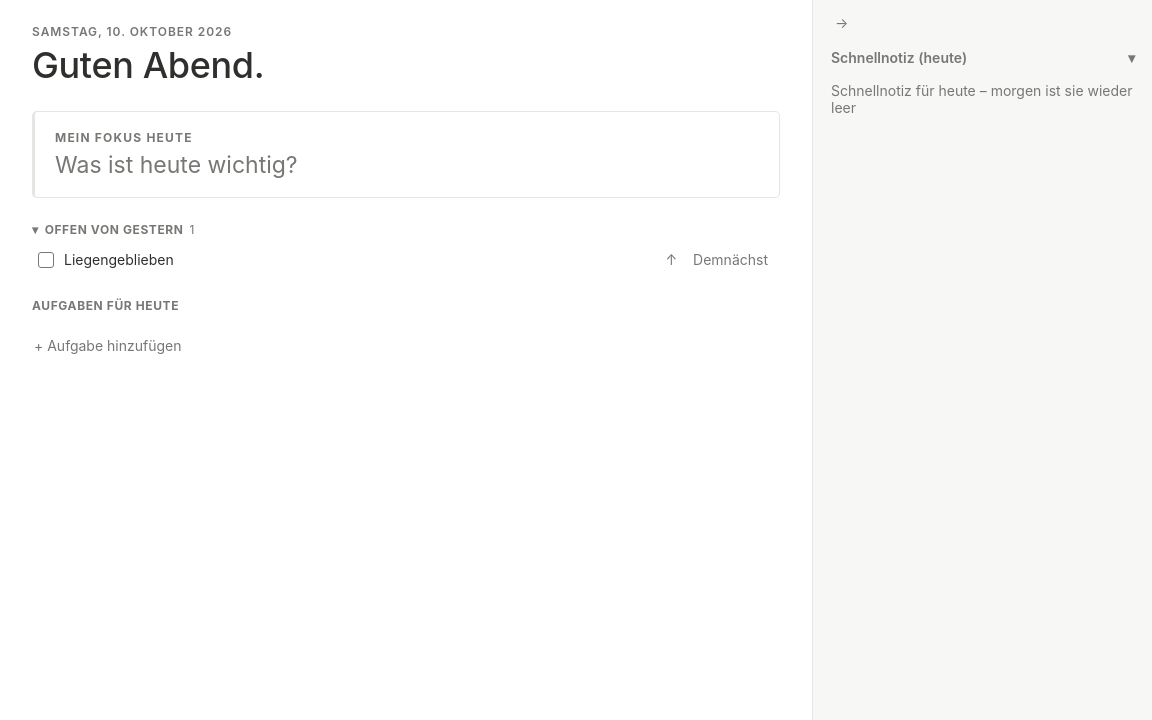
Scenario: HeuteView › uebernimmt Aufgaben von gestern erst auf Klick
The width and height of the screenshot is (1152, 720).
Check: the button "▾ Offen von gestern 1" is shown, box [32,222,195,237]
What coordinates should you click on to do the following:
click the button named "Liegengeblieben nach heute uebernehmen"
I would click on:
 (671, 260)
Its box is [659,249,683,270].
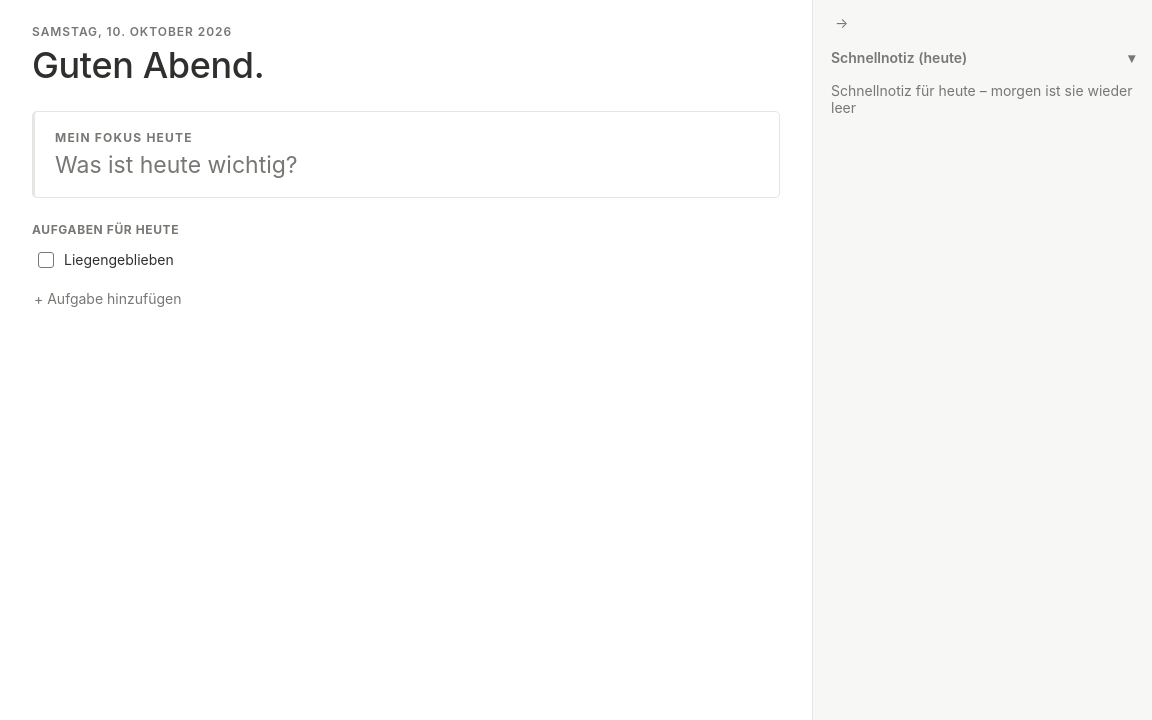
Check: the button "Offen von gestern" is gone
